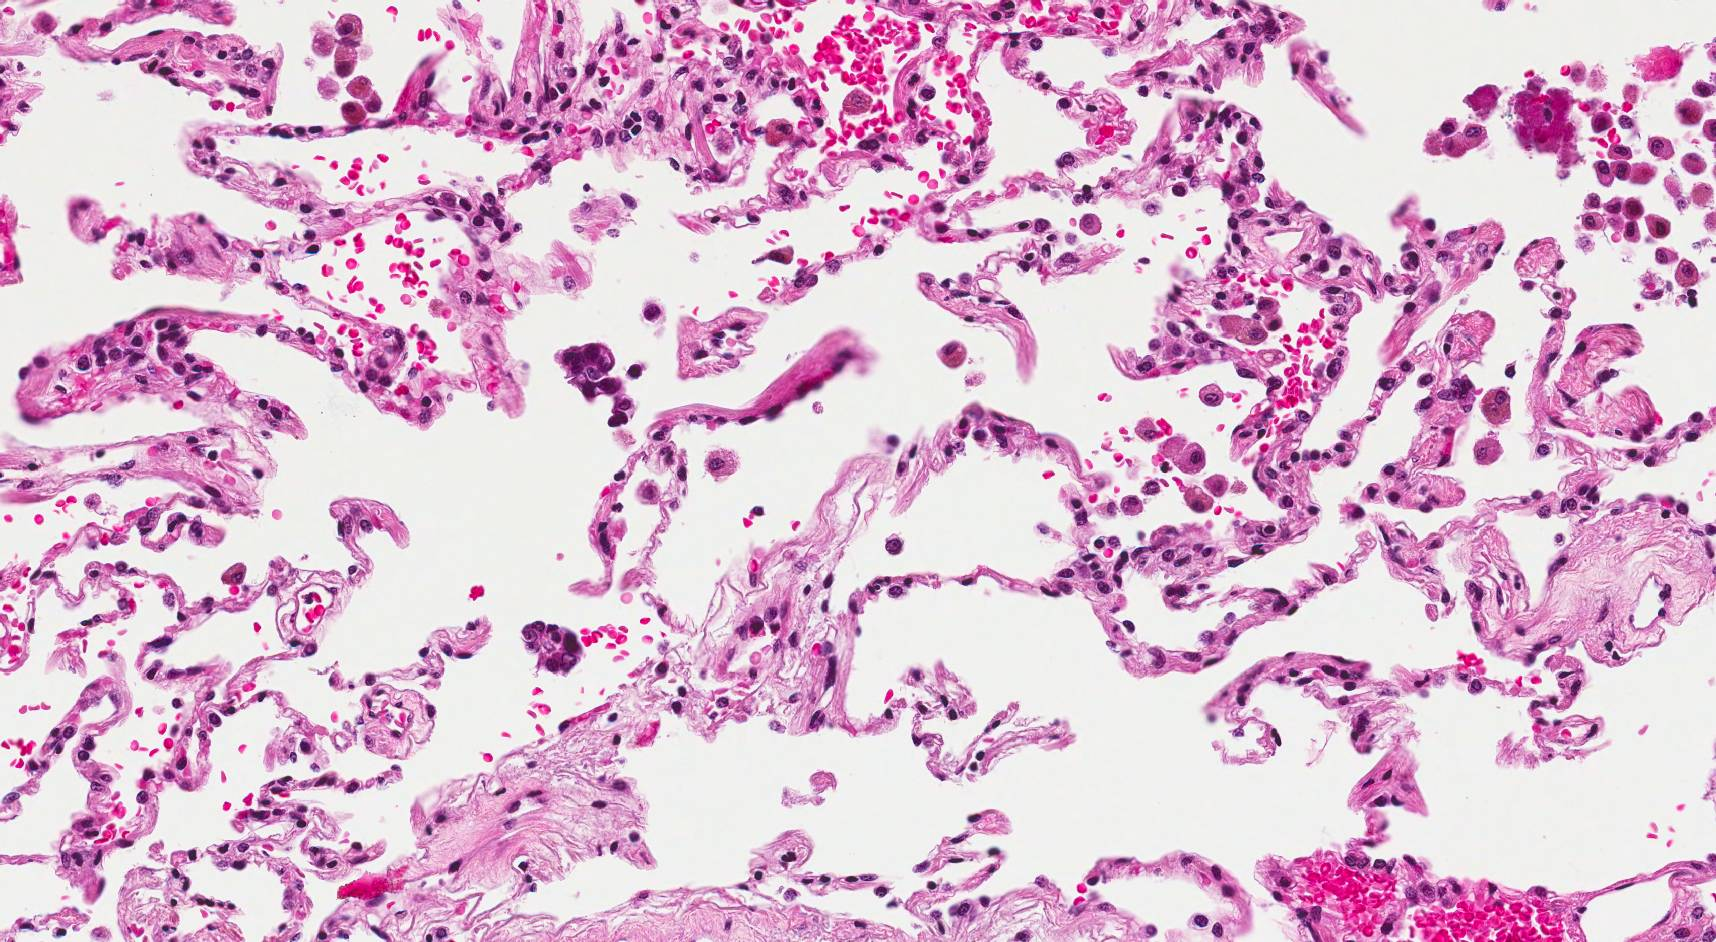stas: (555, 341, 634, 428), (520, 618, 584, 673)
